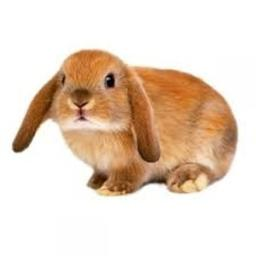rabbit: (12, 49, 237, 194)
